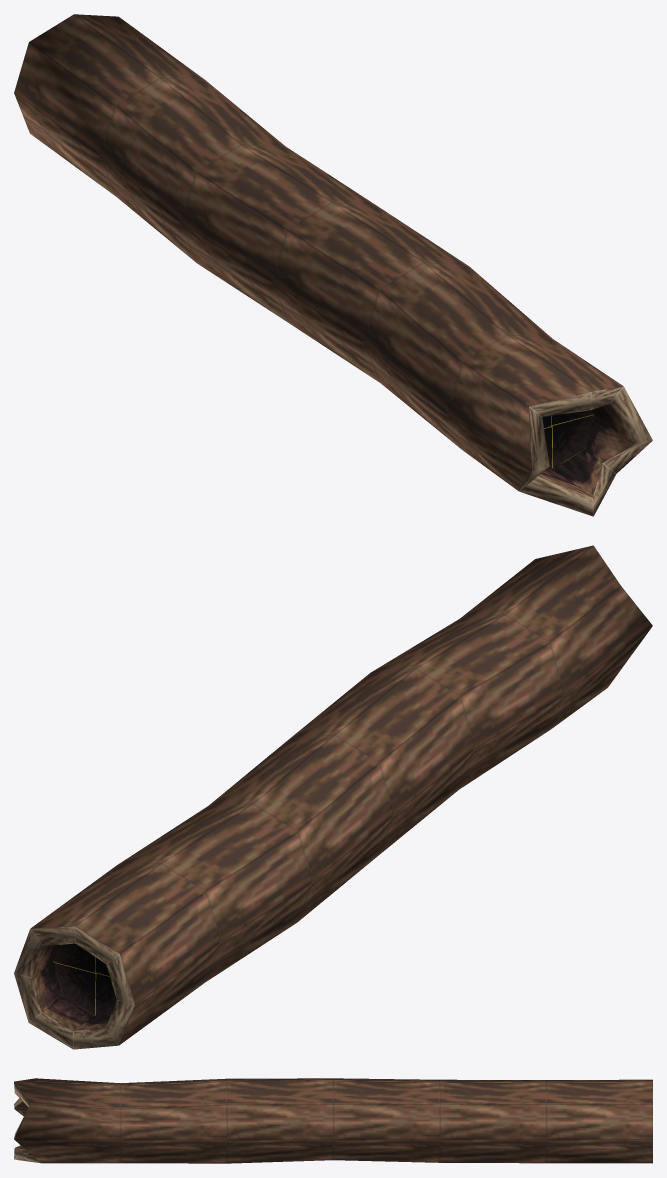
3 views of the same model, one above another, from view 1: azimuth 30°, elevation 25°; view 2: azimuth 150°, elevation 25°; view 3: azimuth 270°, elevation 25° (orthographic). The views are drawn at different scales.
Parts seen in each view (by area): view 1: T1L2M009_2; view 2: T1L2M009_2; view 3: T1L2M009_2.
Boxes of the visible parts, x1=… form: T1L2M009_2: x1=14, y1=14, x2=652, y2=516; T1L2M009_2: x1=14, y1=545, x2=652, y2=1049; T1L2M009_2: x1=14, y1=1078, x2=652, y2=1163.
Bounding box in the file's own units: 1.47 × 1.38 × 10.
